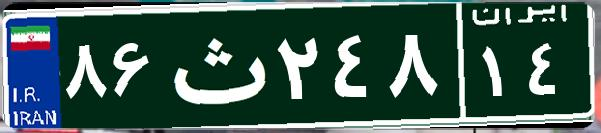1: (475, 38, 525, 113)
2: (273, 28, 330, 110)
4: (330, 28, 385, 110), (525, 38, 570, 115)
6: (110, 28, 158, 105)
8: (385, 28, 445, 110), (57, 26, 110, 107)
ث: (158, 15, 273, 115)
